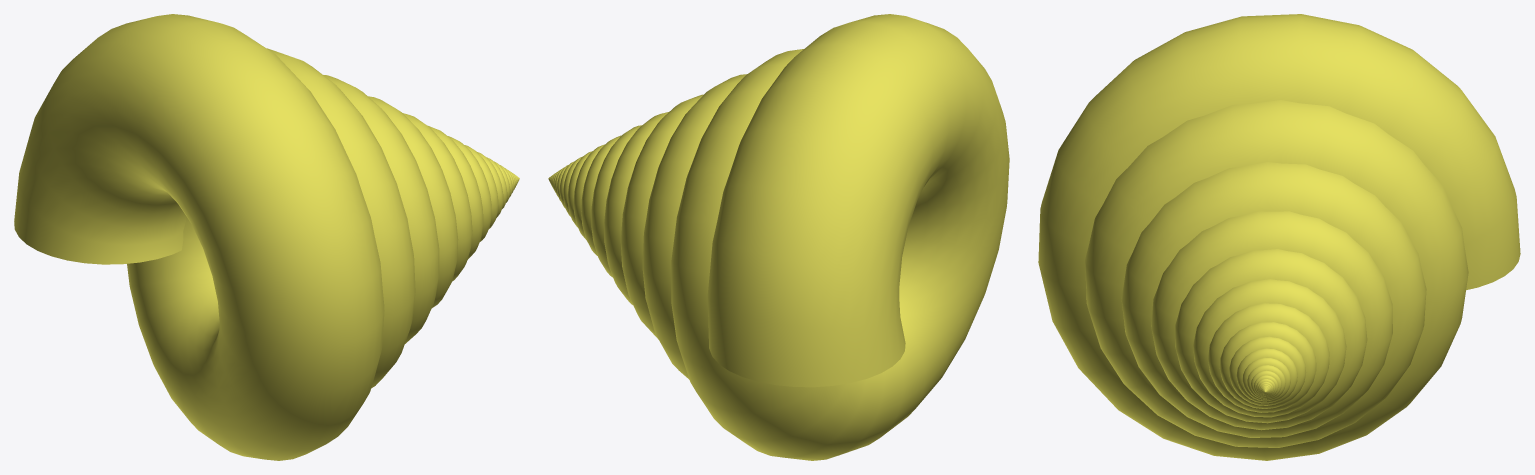
3 renders of one model, left to right at view 1: azimuth 30°, elevation 25°; view 2: azimuth 150°, elevation 25°; view 3: azimuth 270°, elevation 25°, orthographic. The views are drawn at different scales.
Visible parts, largest first — view 1: t6; view 2: t6; view 3: t6.
Boxes of the visible parts, x1,y1,x2,y2 form: t6: (14,14,519,460); t6: (548,14,1009,460); t6: (1038,14,1520,460).
Bounding box in the file's own units: 500 × 476 × 504.
